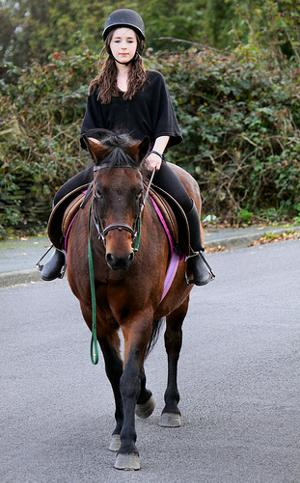person: (39, 9, 211, 290)
